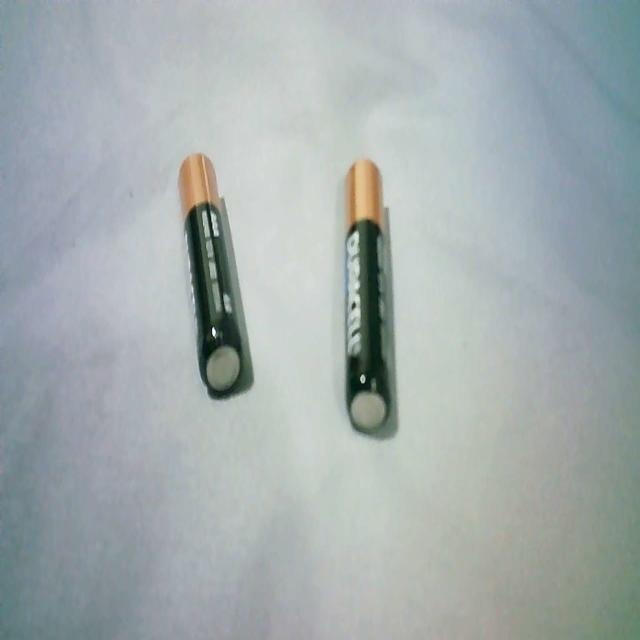AAA: (172, 144, 248, 404), (341, 147, 396, 446)
